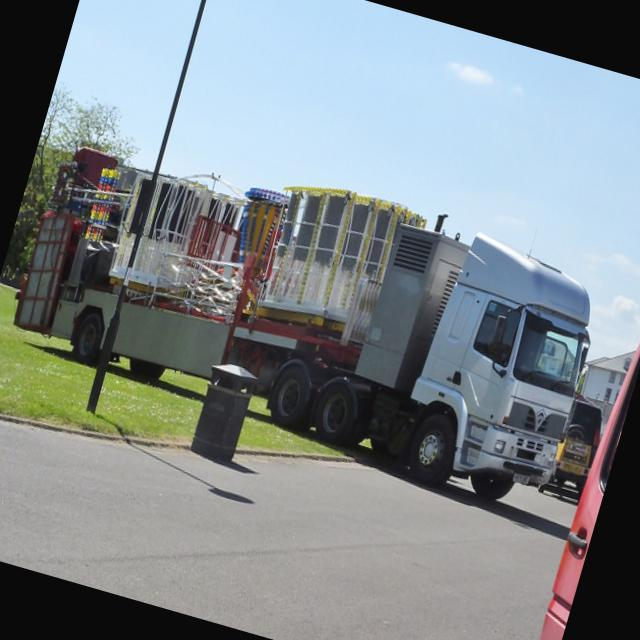Vehicle: (100, 137, 610, 518), (512, 320, 640, 640), (540, 395, 610, 501)
